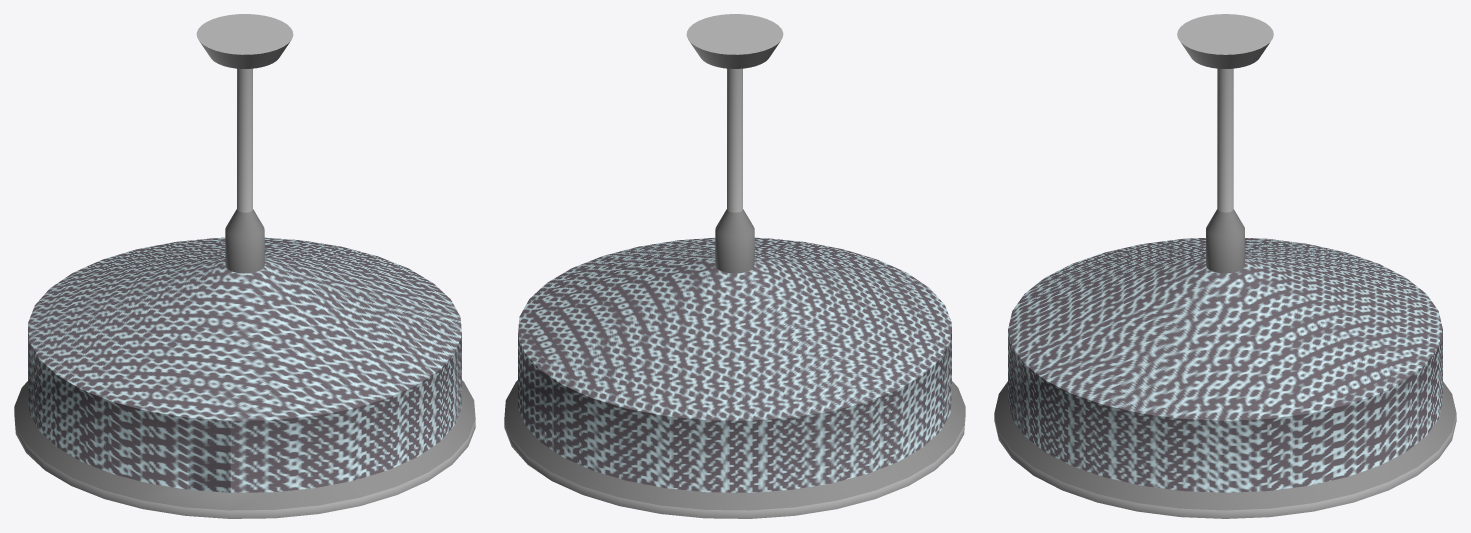
File: GameJamCeilingLamp.fbx
3 views of the same model, side by side, from view 1: azimuth 30°, elevation 25°; view 2: azimuth 150°, elevation 25°; view 3: azimuth 270°, elevation 25° (orthographic).
Parts seen in each view (by area): view 1: Cylinder; view 2: Cylinder; view 3: Cylinder.
Boxes of the visible parts, x1,y1,x2,y2 form: Cylinder: (14, 14, 475, 518); Cylinder: (504, 14, 965, 518); Cylinder: (994, 14, 1456, 518).
Size of the model in its own units: 216 by 200 by 216.
Materials: 4 (1 with a texture image).
